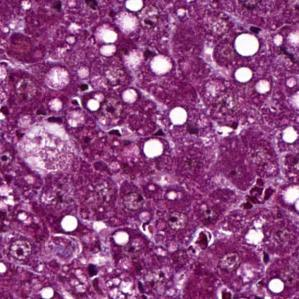ballooning: (12, 118, 77, 178), (40, 62, 74, 97)
